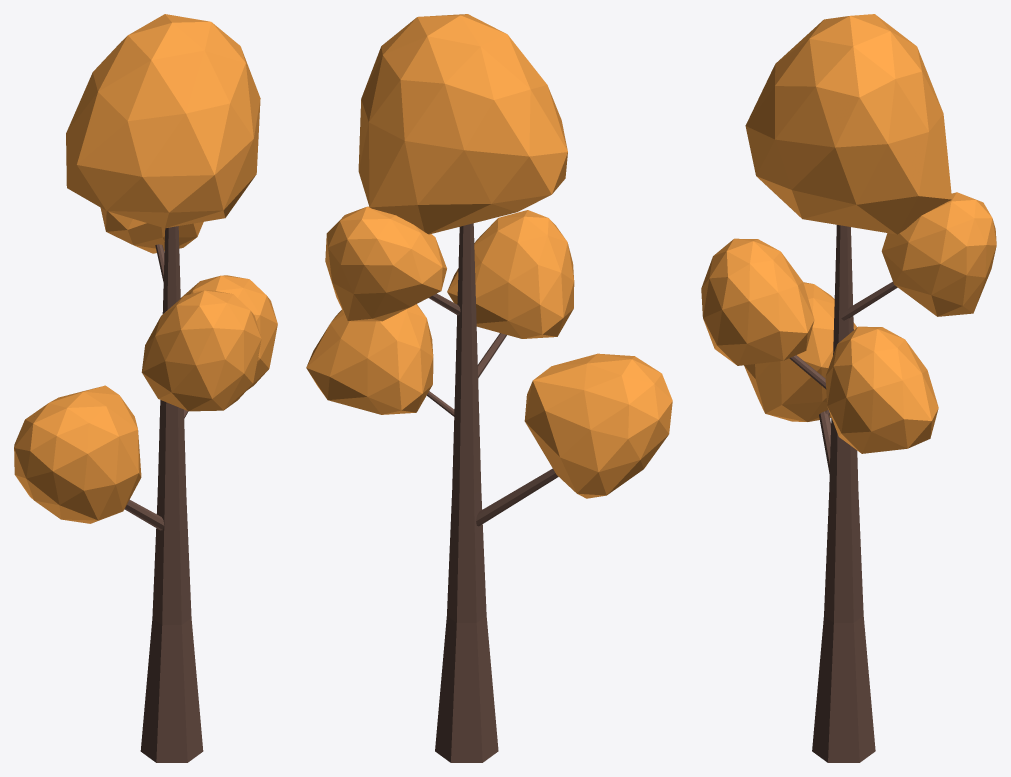
Rendered from AutumnTree_04.fbx.
The picture shows the model from 3 angles, left to right: view 1: azimuth 30°, elevation 25°; view 2: azimuth 150°, elevation 25°; view 3: azimuth 270°, elevation 25°; orthographic projection.
Visible parts, largest first — view 1: AutumnTree_04; view 2: AutumnTree_04; view 3: AutumnTree_04.
Boxes of the visible parts, bbox=[...] form: AutumnTree_04: bbox=[14, 14, 277, 762]; AutumnTree_04: bbox=[306, 14, 672, 762]; AutumnTree_04: bbox=[701, 14, 996, 762].
Size of the model in its own units: 462 by 1086 by 395.
